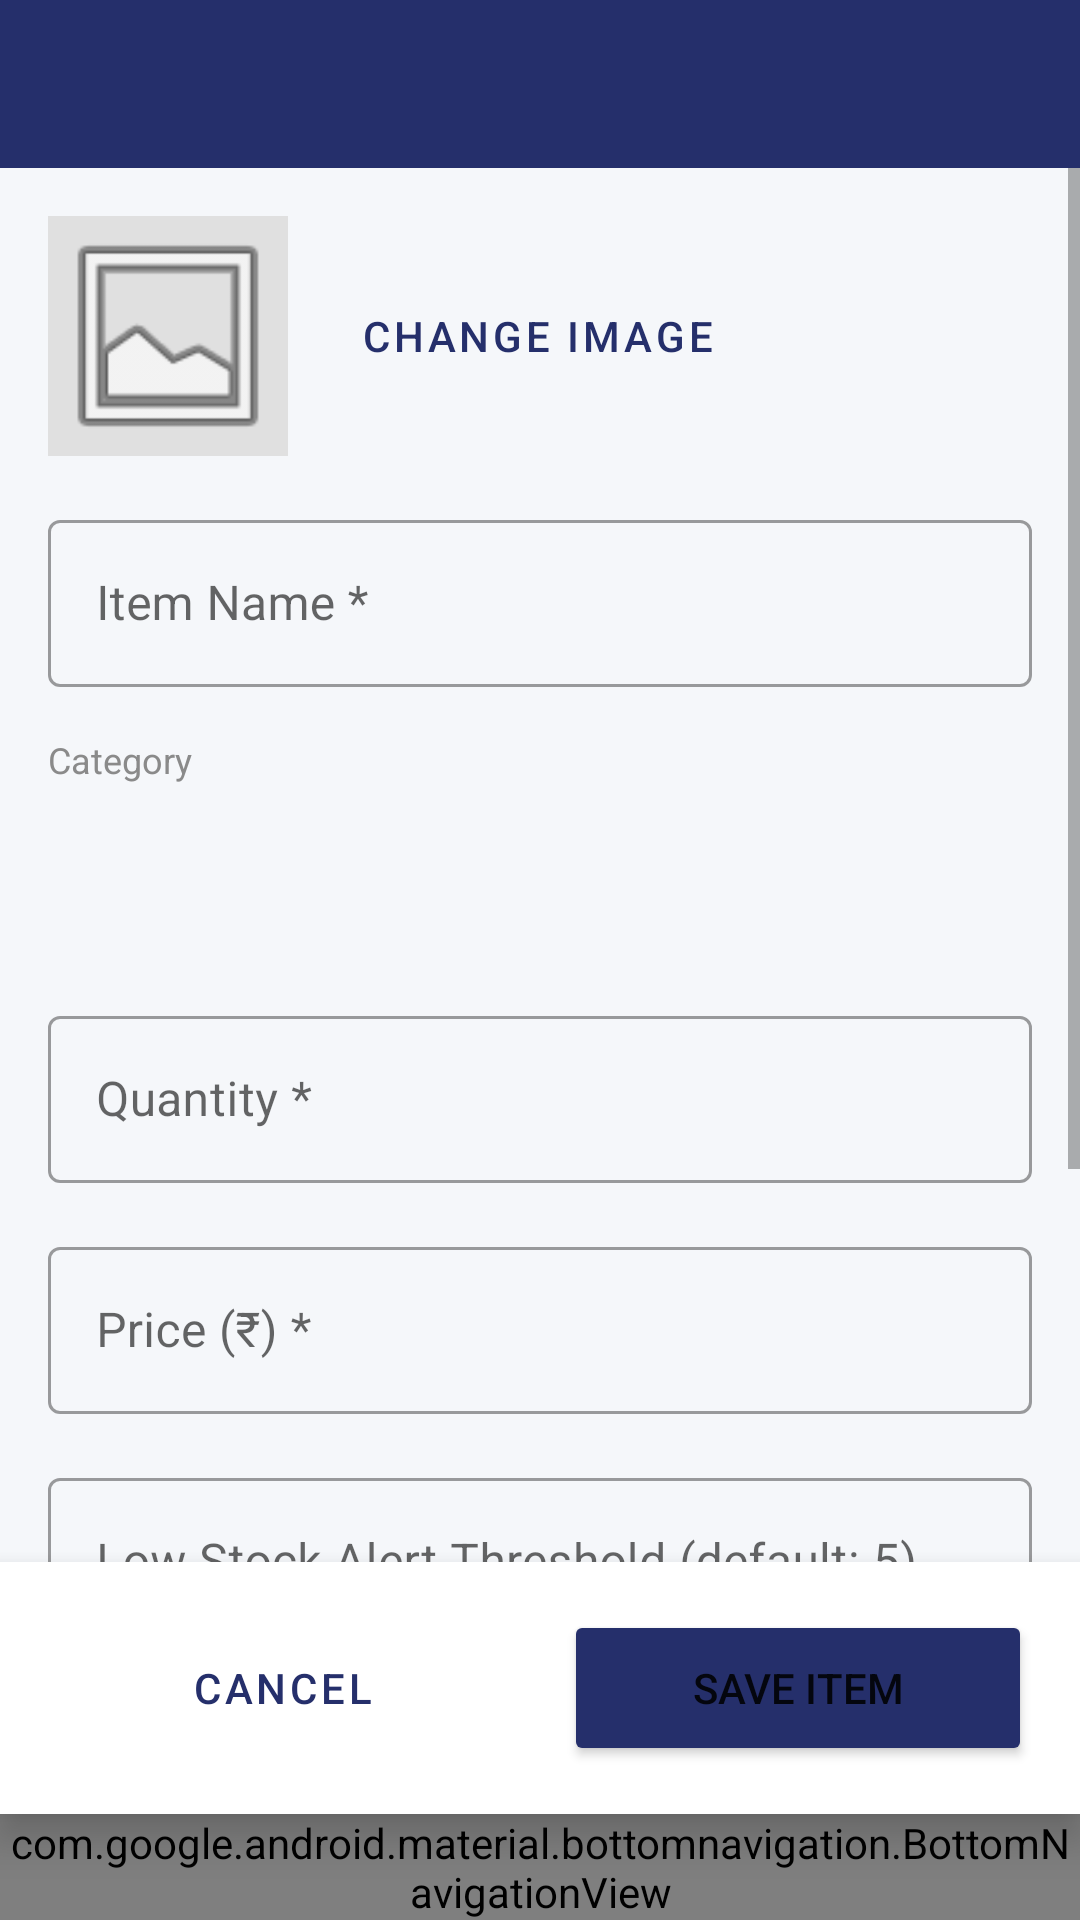

Locate icon controls on the screen. Image size 1080 × 1920, boxes as {"left": x1, "top": y1, "right": x2, "bottom": y2}.
gallery: {"left": 48, "top": 216, "right": 288, "bottom": 456}
